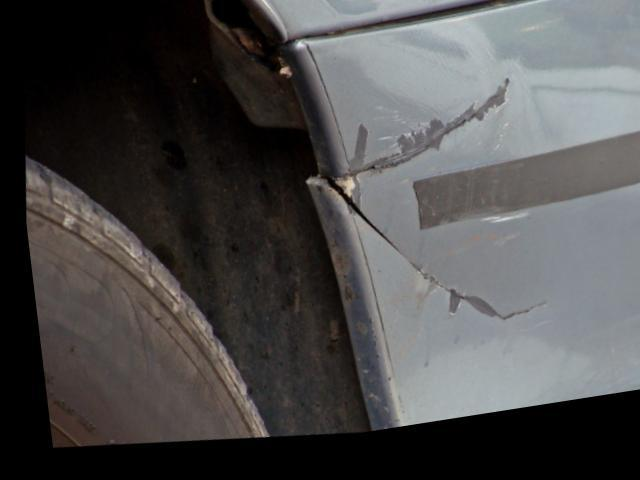crack: (317, 95, 543, 337)
